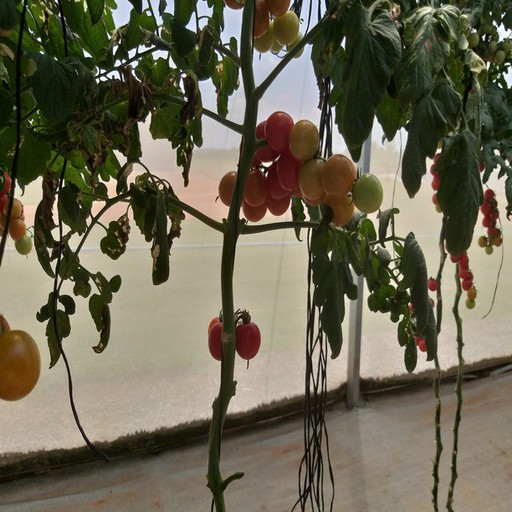mixed tomato bunch: (218, 109, 384, 225), (231, 1, 304, 57), (1, 170, 33, 254)
red tomato bunch: (206, 304, 263, 364), (446, 239, 477, 307), (410, 274, 434, 359), (480, 188, 505, 250), (433, 152, 446, 205)
